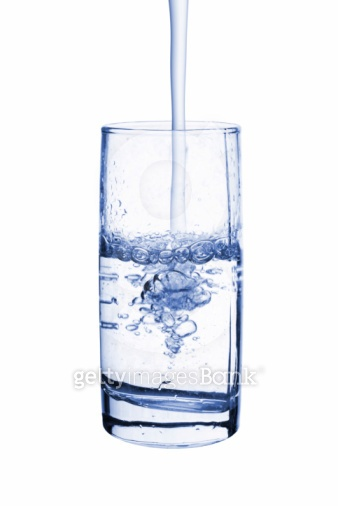glass of water: (98, 118, 242, 441)
